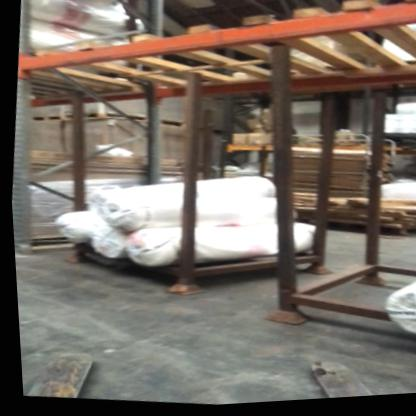vertical_damage: (12, 235, 35, 263)
